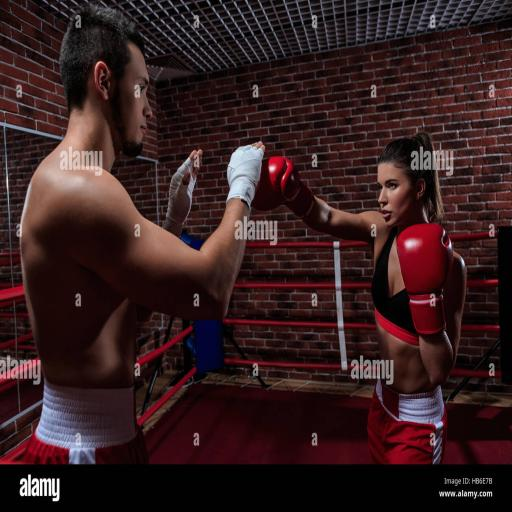fight: (20, 17, 493, 421)
